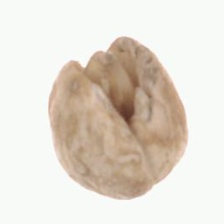L1: (63, 36, 139, 104)
L2: (48, 36, 188, 200)
